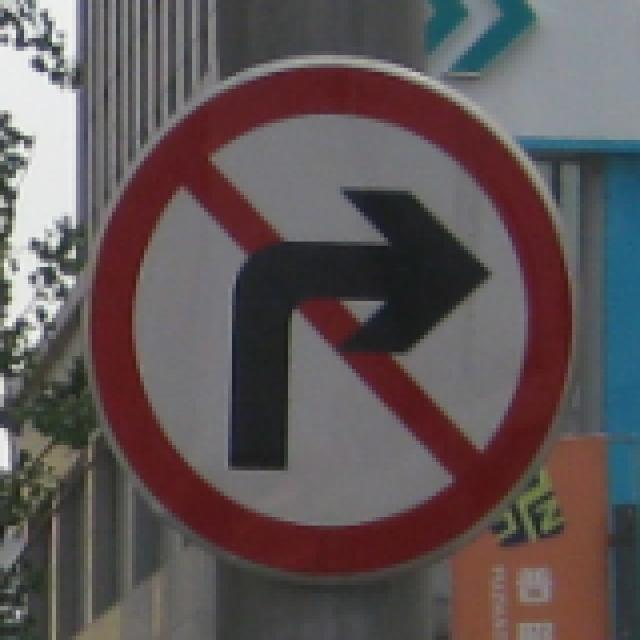Not that Direction: (94, 54, 588, 580)
